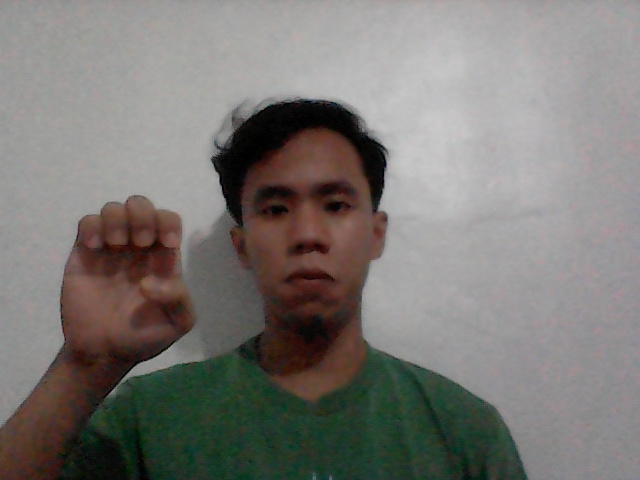E: (34, 168, 210, 395)
